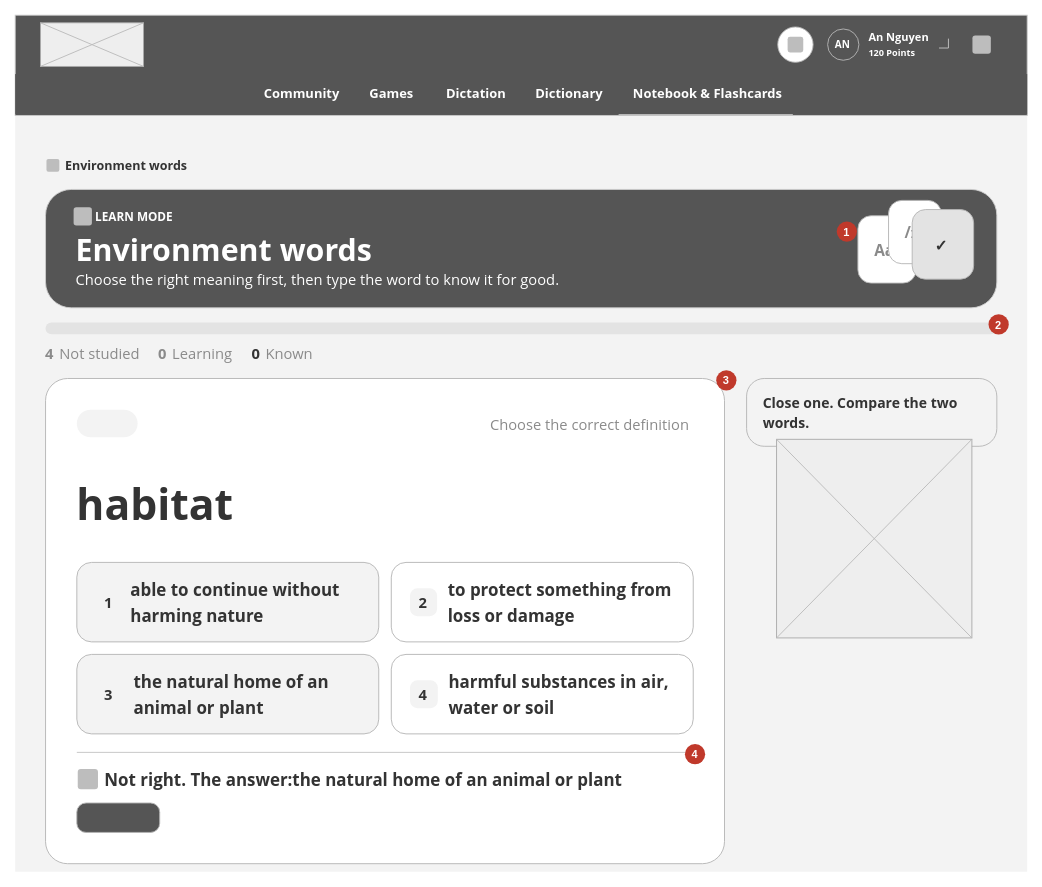
The diagram is 1042 pixels wide and 887 high, and some of its shapes have lost their labels. The centre of each missing label's shape, as x and y in pixels:
"Continue" goes at (x=118, y=817).
"TERM" goes at (x=106, y=423).
